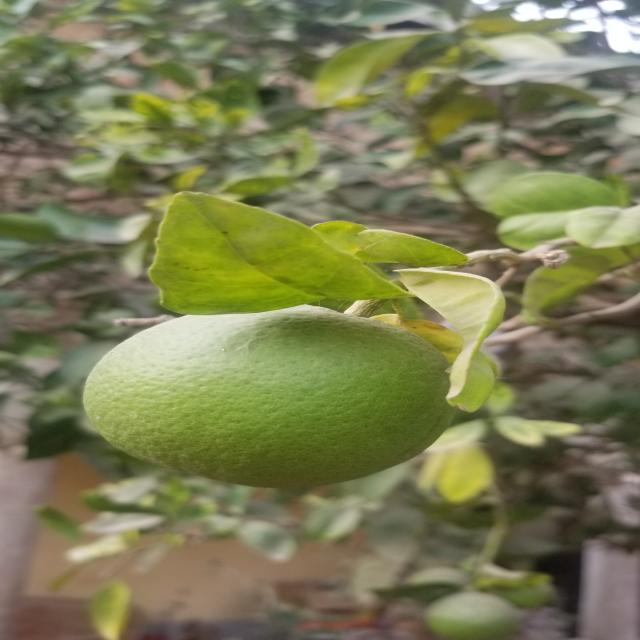Unripe: (62, 302, 457, 504)
